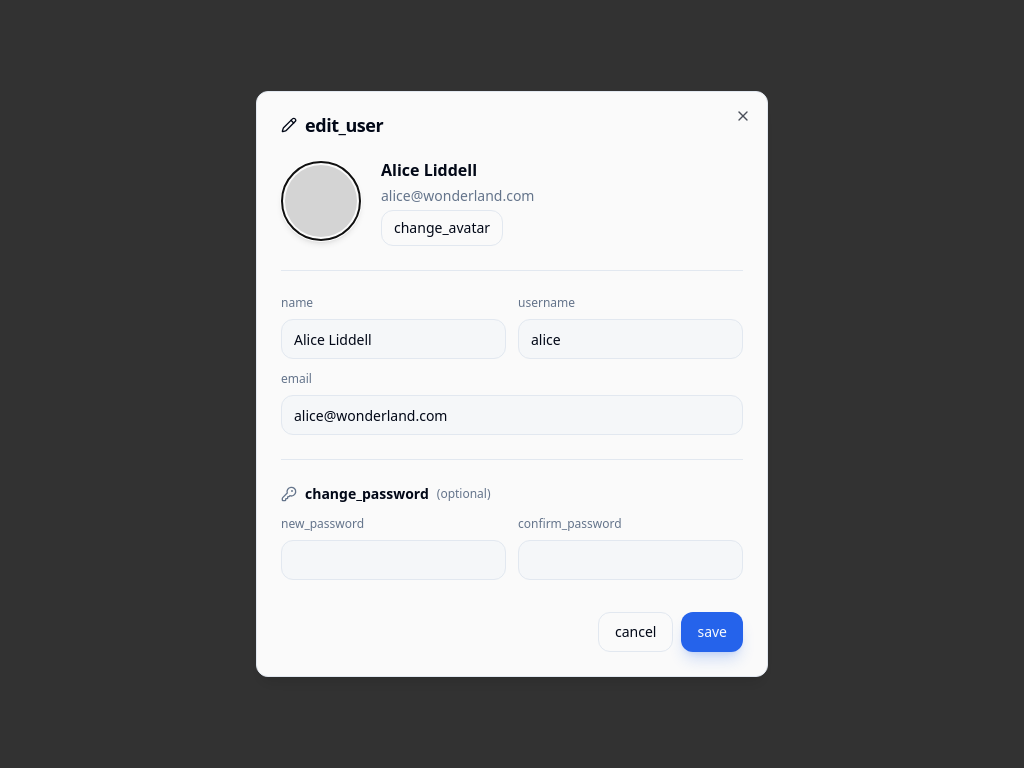
it: EditUserModal › shows username required validation error
This screenshot has width=1024, height=768.
Clear the field named "username" below "username". click: (630, 339)
box: [518, 319, 743, 359]
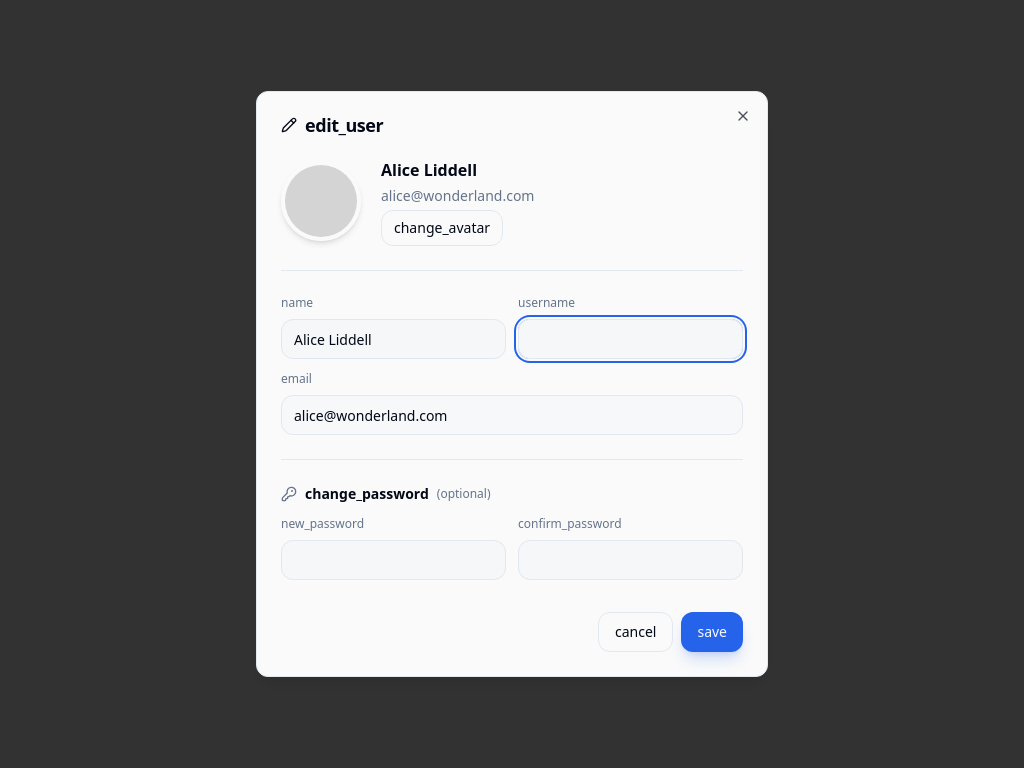
Click the submit button. click: (712, 632)
box: [681, 612, 743, 652]
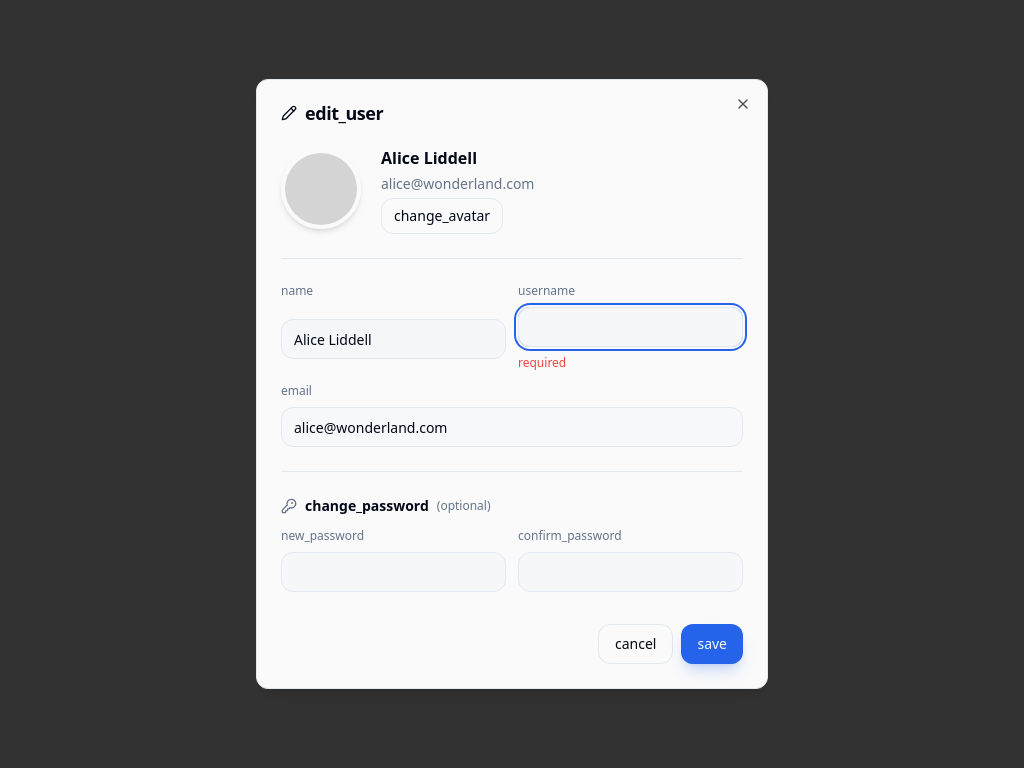
Expected: the text "required" is shown, [518, 354, 566, 371]
